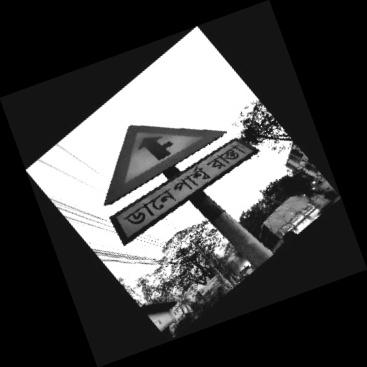Side-road-right: (104, 123, 251, 249)
